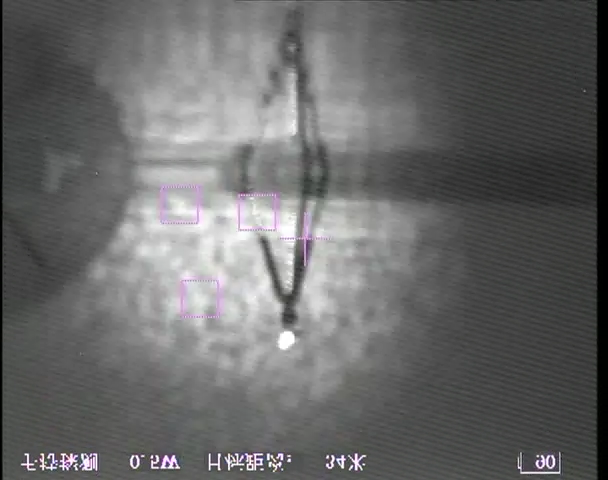my: (274, 328, 299, 351)
